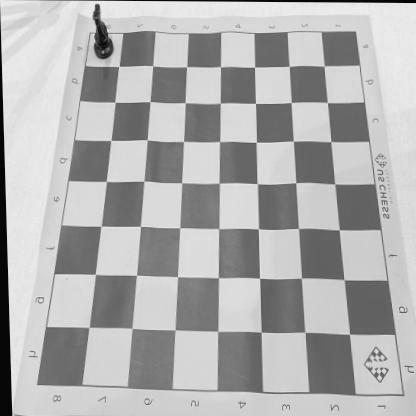black-knight: (90, 3, 115, 60)
